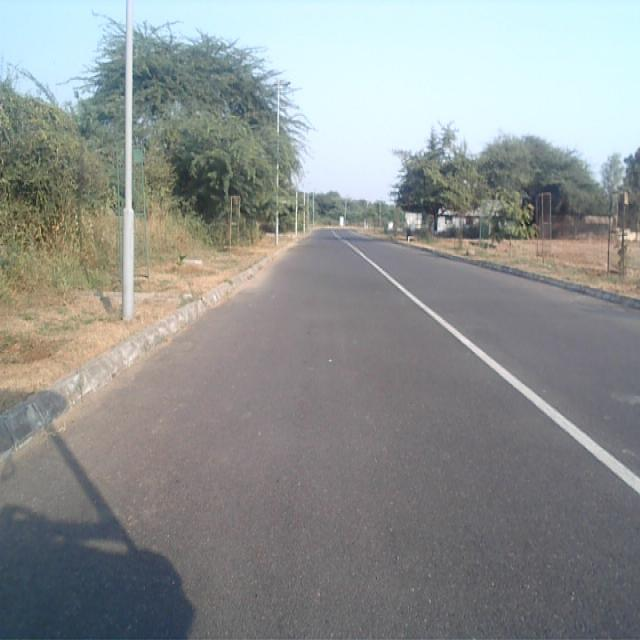lane: (0, 235, 640, 640)
